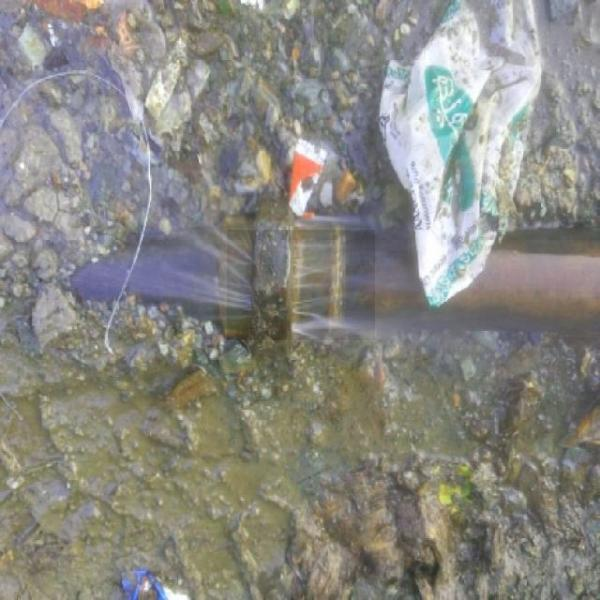water: (227, 230, 375, 340)
